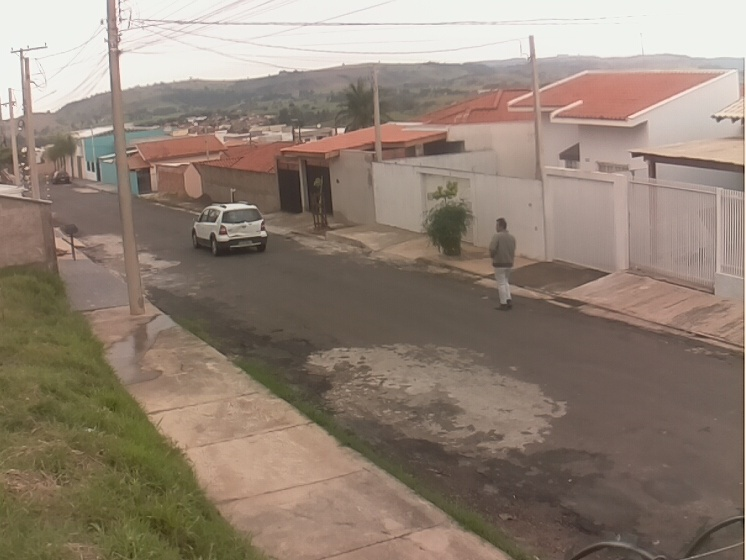person: (487, 215, 520, 312)
